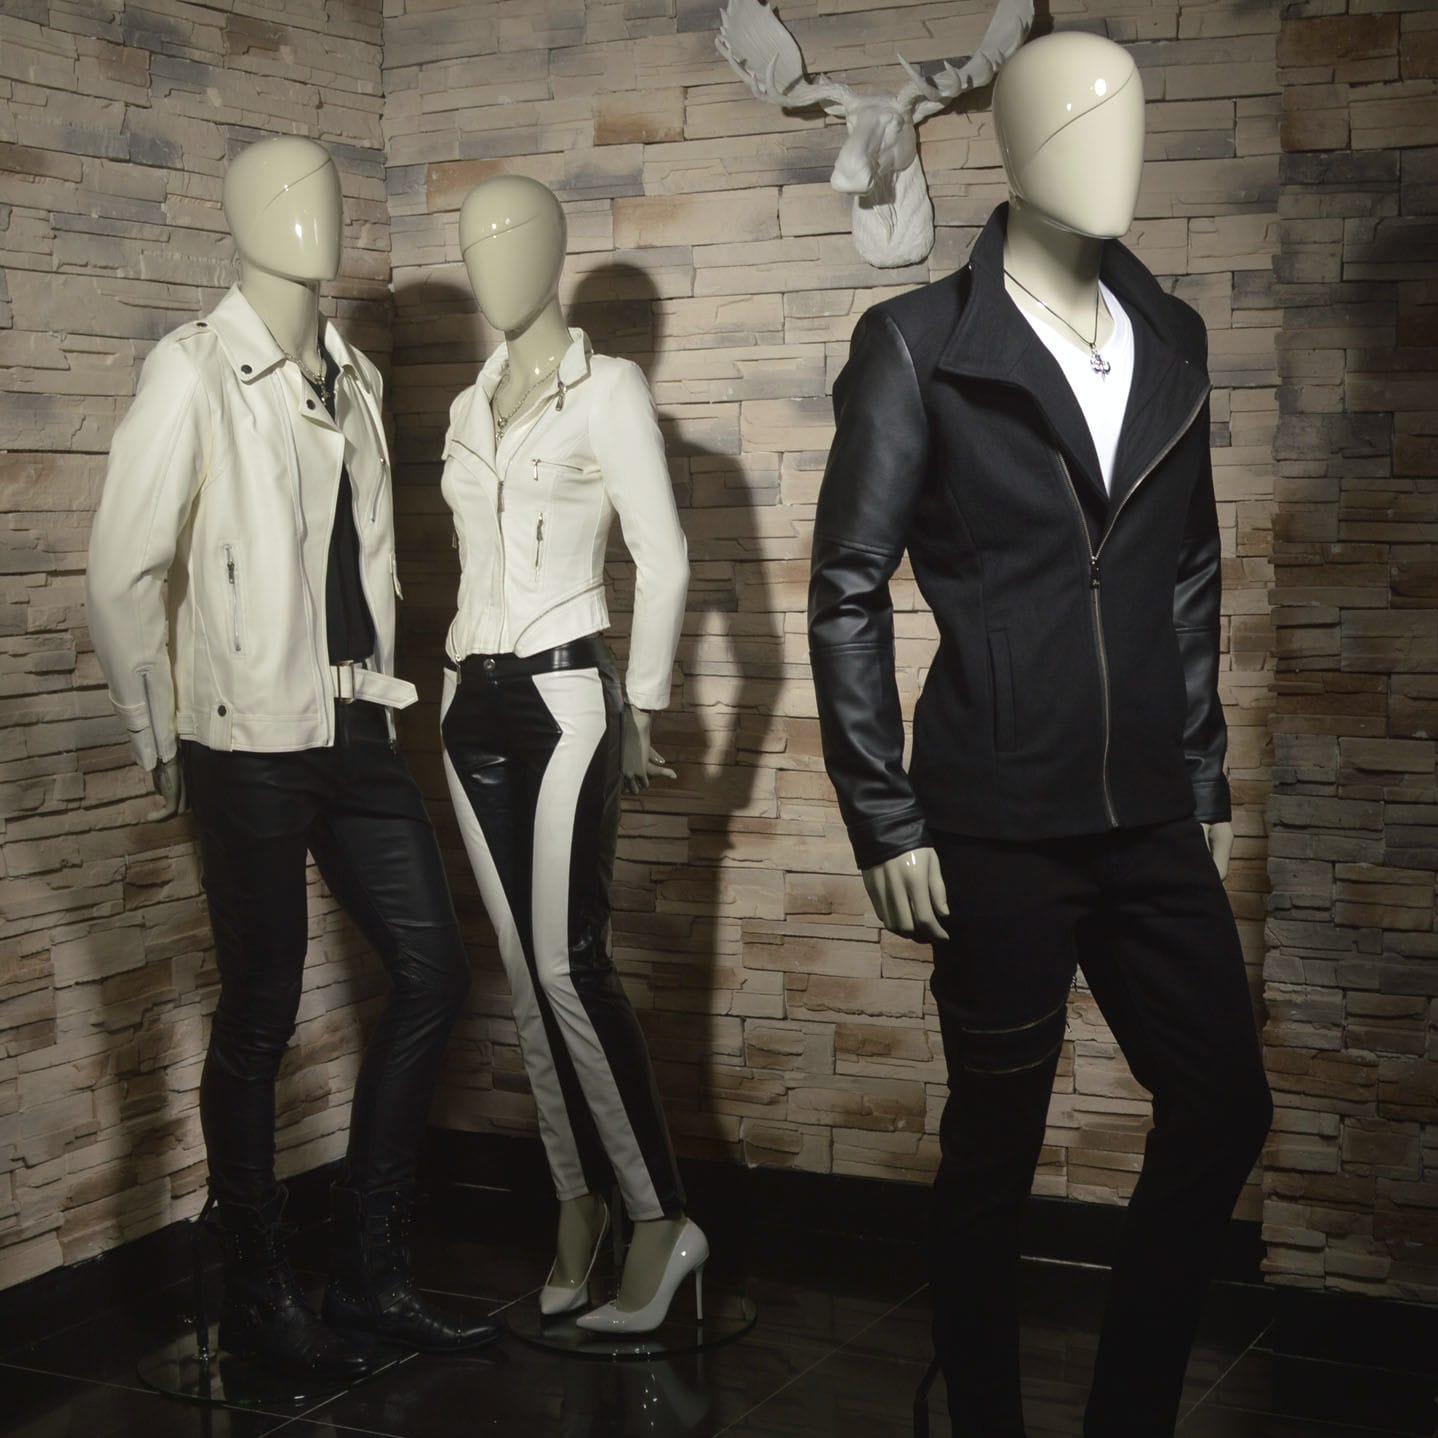person-like: (795, 22, 1286, 1438), (68, 117, 509, 1405), (409, 163, 724, 1358)
